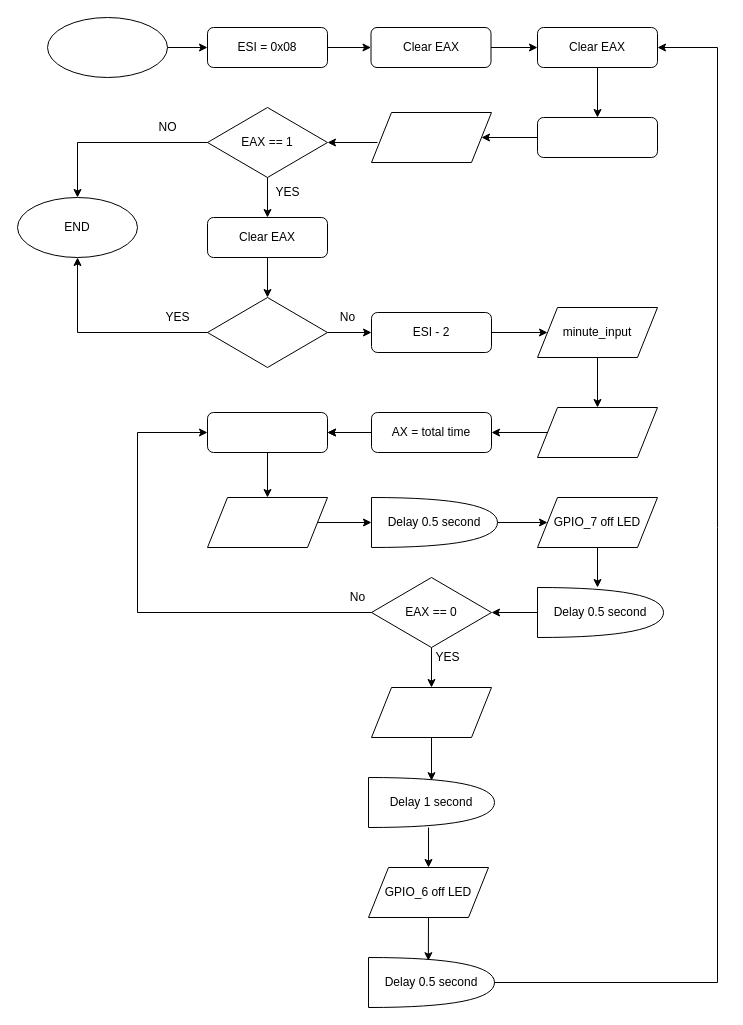
The diagram is 743 pixels wide and 1025 high, and some of its shapes have lost their labels. Here are the shapes that lost their labels. From the top down, the centre of each, then its label:
(107,47): Start
(431,137): AX = start_input
(597,137): Set "Time" = EAX = 0
(267,332): ESI == 0
(267,432): Decease EAX by 1
(597,432): second_input
(267,522): GPIO_7 on LED
(431,712): GPIO_6 on LED
